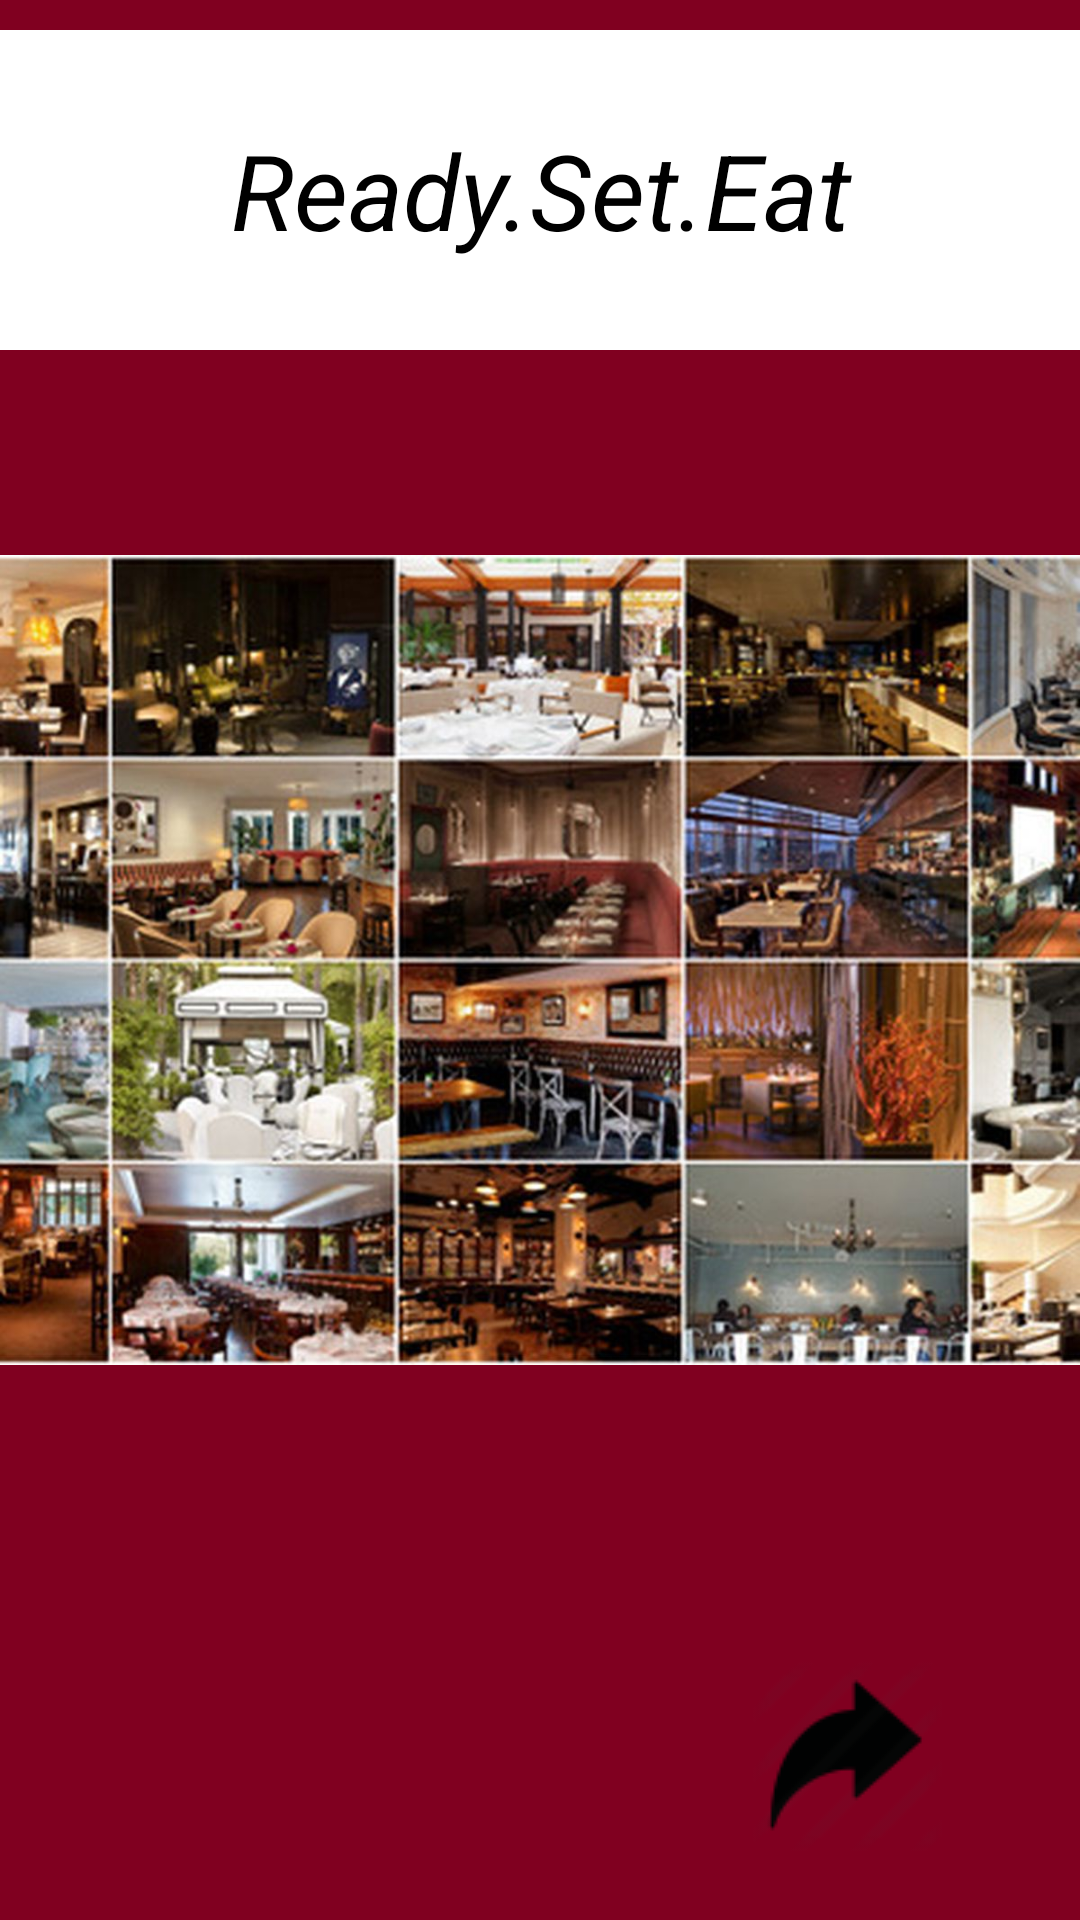

Icon click points for this 1080*1920 phone screenshot, format (x,y):
bigarrow: (846,1755)
